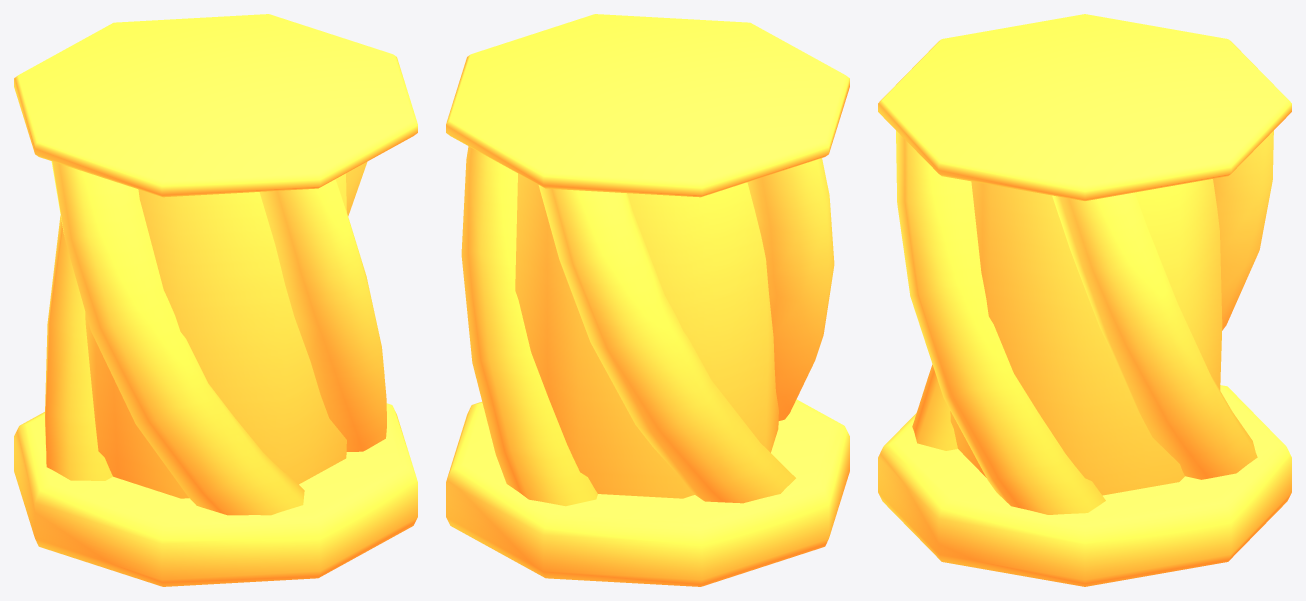
The model's file is gold_grip_006.glb.
The picture shows the model from 3 angles, left to right: view 1: azimuth 30°, elevation 25°; view 2: azimuth 150°, elevation 25°; view 3: azimuth 270°, elevation 25°; orthographic projection.
Parts seen in each view (by area): view 1: gold_grip_006; view 2: gold_grip_006; view 3: gold_grip_006.
Part boxes in pixels (x1,y1,x2,y2): gold_grip_006: (14,14,417,586); gold_grip_006: (446,14,849,586); gold_grip_006: (878,14,1291,586).
Bounding box in the file's own units: 2.89 × 3.13 × 2.89.
Materials: 1 (1 with a texture image).
